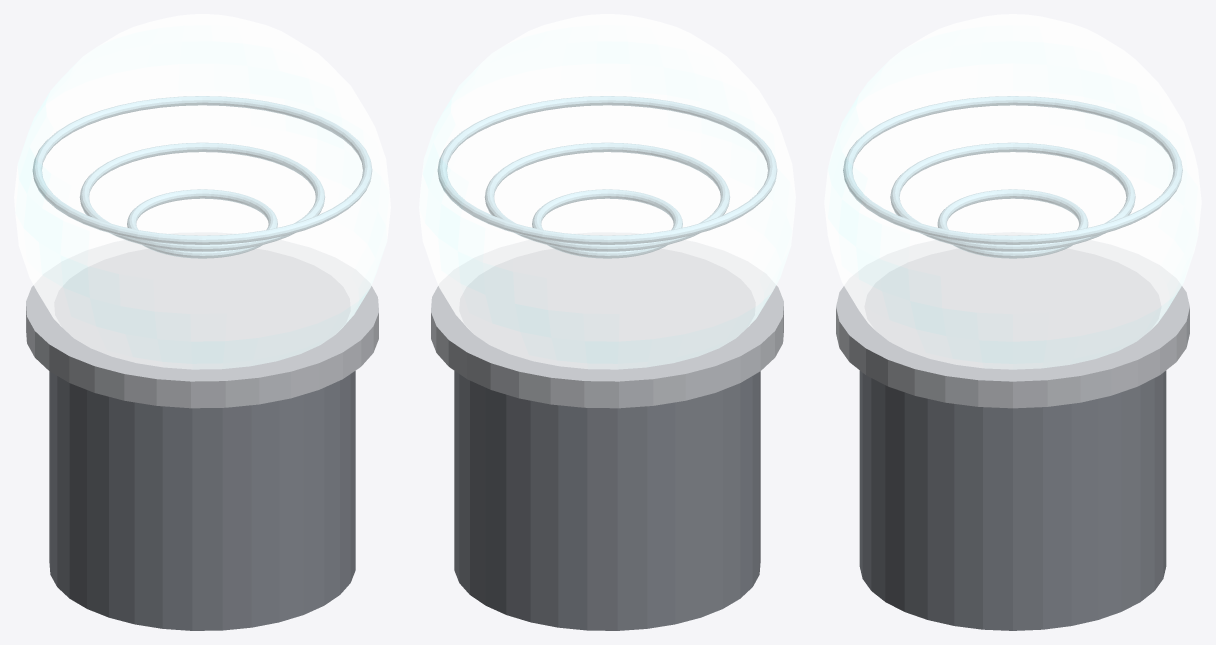
Rendered from holo_map_stand.fbx.
3 views of the same model, side by side, from view 1: azimuth 30°, elevation 25°; view 2: azimuth 150°, elevation 25°; view 3: azimuth 270°, elevation 25° (orthographic).
Parts seen in each view (by area): view 1: HoloDome, HoloPedestal, HoloEmitter, HoloRing_2, HoloRing_1, HoloRing_0; view 2: HoloDome, HoloPedestal, HoloEmitter, HoloRing_2, HoloRing_1, HoloRing_0; view 3: HoloDome, HoloPedestal, HoloEmitter, HoloRing_2, HoloRing_1, HoloRing_0.
Part boxes in pixels (bbox=[...]): HoloDome: bbox=[14, 14, 390, 369]; HoloPedestal: bbox=[49, 371, 355, 630]; HoloEmitter: bbox=[26, 232, 378, 408]; HoloRing_2: bbox=[32, 96, 372, 244]; HoloRing_1: bbox=[80, 142, 324, 251]; HoloRing_0: bbox=[127, 189, 277, 258]; HoloDome: bbox=[419, 14, 795, 369]; HoloPedestal: bbox=[454, 371, 760, 630]; HoloEmitter: bbox=[431, 232, 783, 408]; HoloRing_2: bbox=[437, 96, 777, 244]; HoloRing_1: bbox=[485, 142, 729, 251]; HoloRing_0: bbox=[532, 189, 682, 258]; HoloDome: bbox=[824, 14, 1201, 369]; HoloPedestal: bbox=[859, 370, 1166, 630]; HoloEmitter: bbox=[836, 232, 1189, 408]; HoloRing_2: bbox=[843, 96, 1182, 244]; HoloRing_1: bbox=[890, 142, 1135, 251]; HoloRing_0: bbox=[937, 189, 1088, 258].
Size of the model in its own units: 320 by 500 by 320.
